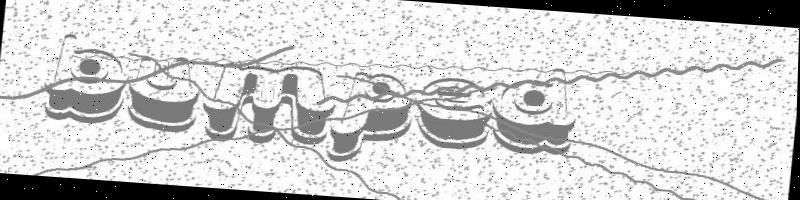b: (41, 30, 133, 126)
d: (490, 63, 582, 158)
e: (413, 75, 496, 151)
m: (200, 60, 339, 150)
p: (328, 69, 417, 167)
u: (125, 53, 203, 134)
